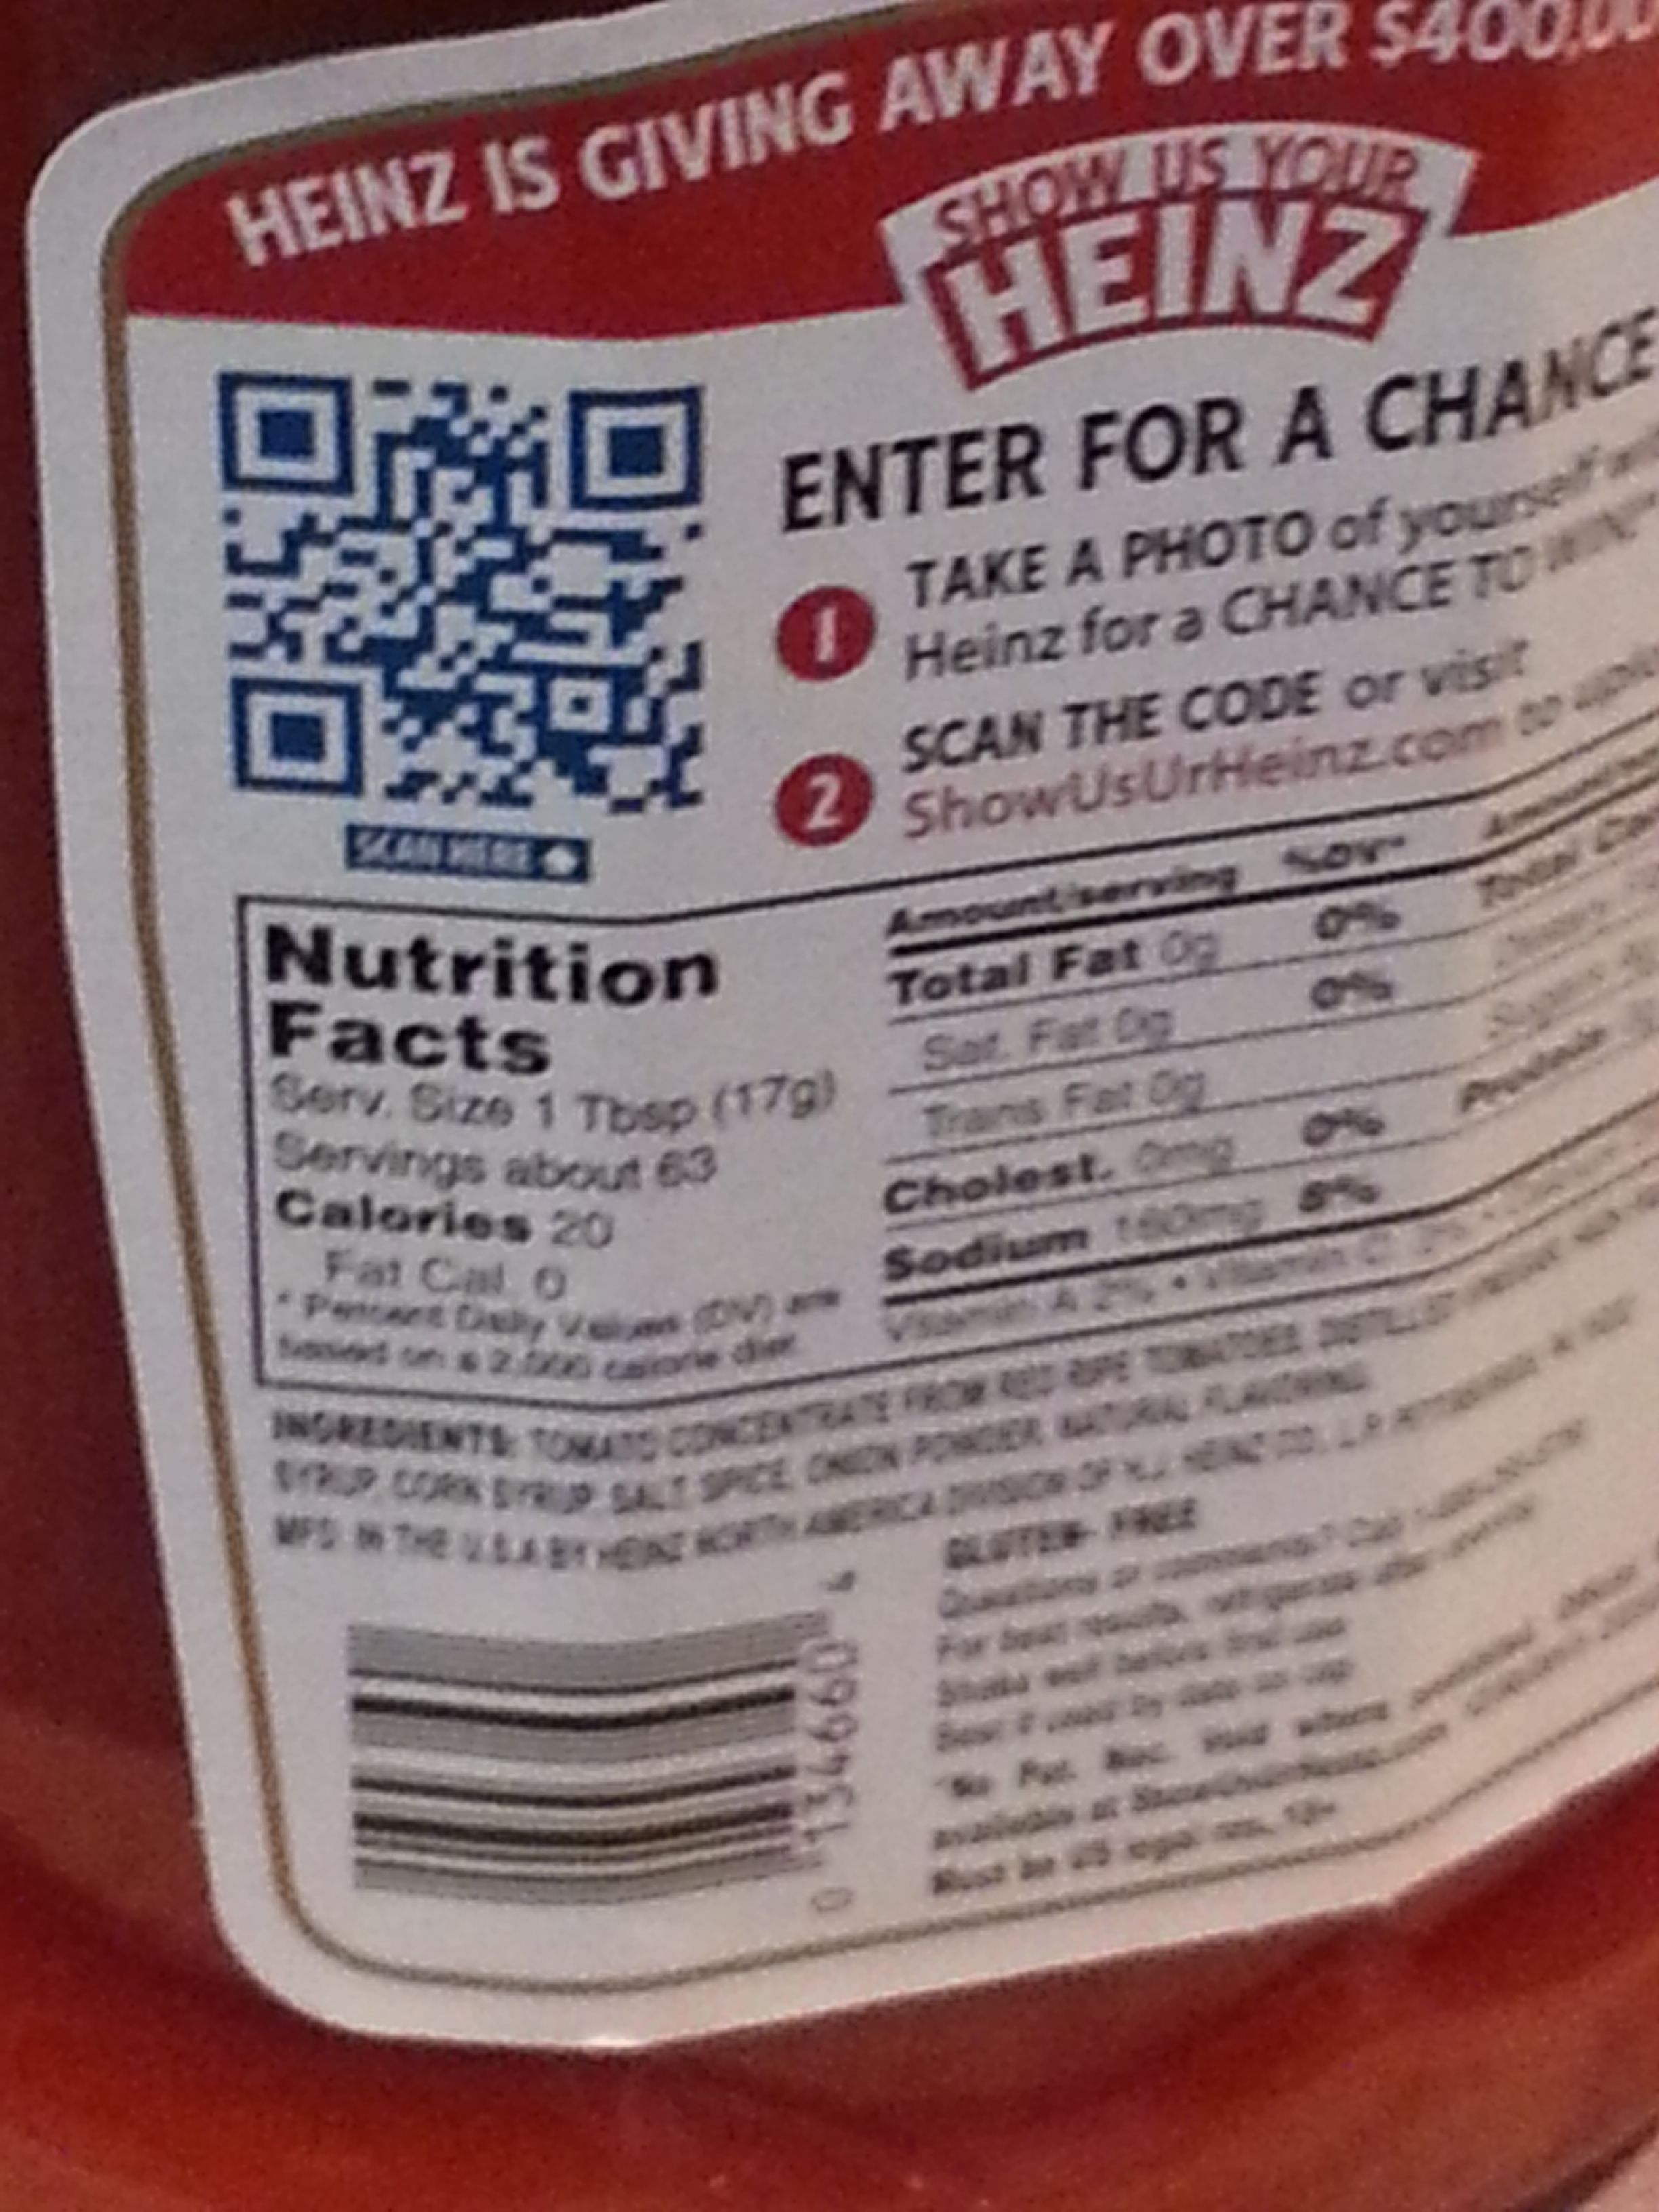qr_code: (204, 343, 739, 840)
